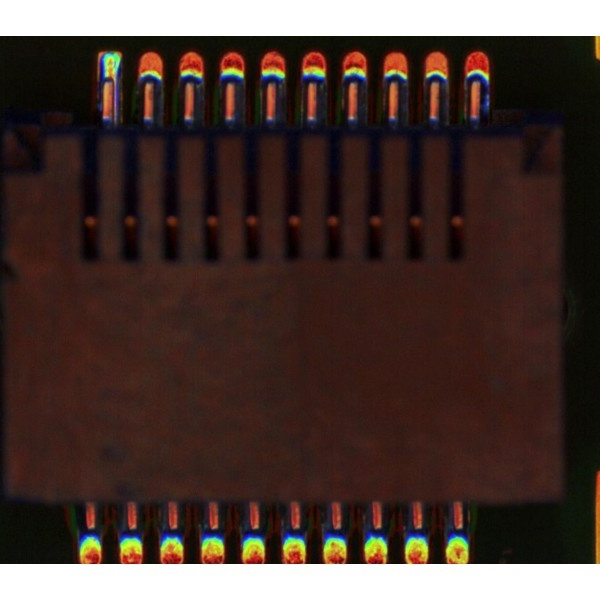Bad_qiaojiao: (113, 83, 120, 122)
